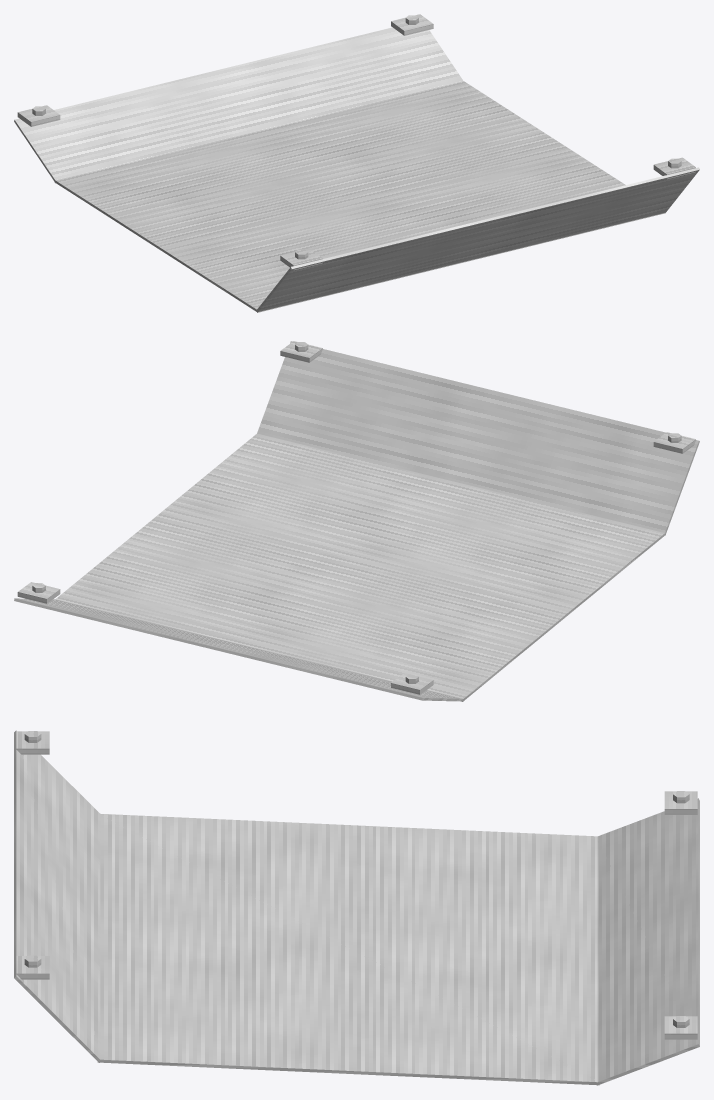
File: protetor_fabrica.glb
3 renders of one model, top to bottom at view 1: azimuth 30°, elevation 25°; view 2: azimuth 150°, elevation 25°; view 3: azimuth 270°, elevation 25°, orthographic. The views are drawn at different scales.
Visible parts, largest first — view 1: protetor_fabrica; view 2: protetor_fabrica; view 3: protetor_fabrica.
Part boxes in pixels (box(x1,y1,x2,y2)): protetor_fabrica: box(14, 14, 699, 312); protetor_fabrica: box(14, 341, 699, 701); protetor_fabrica: box(14, 730, 699, 1085).
Size of the model in its own units: 0.7 by 0.1546 by 0.8254.
1 material, 1 textured.
